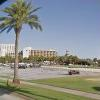Palm tree: (2, 0, 40, 81)
